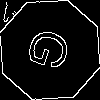G: (25, 25, 81, 77)
